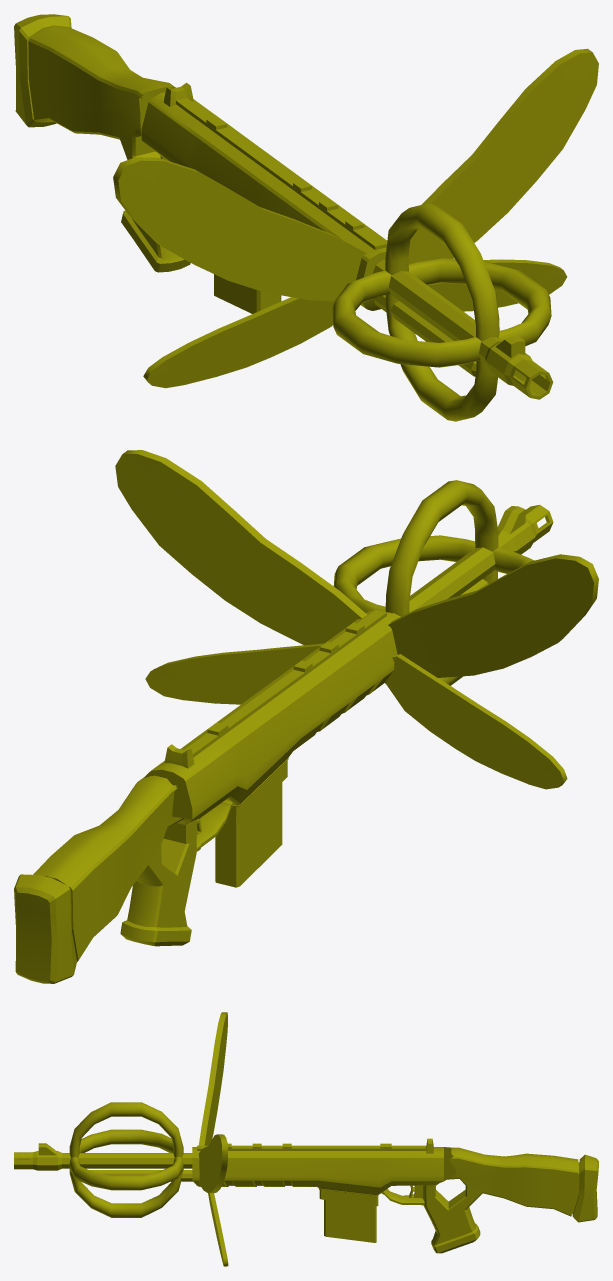
Rendered from Ranged-Gun-Ft-Extras.fbx.
3 renders of one model, top to bottom at view 1: azimuth 30°, elevation 25°; view 2: azimuth 150°, elevation 25°; view 3: azimuth 270°, elevation 25°, orthographic. The views are drawn at different scales.
Parts seen in each view (by area): view 1: wings, gun_base, polySurface446, polySurface433; view 2: gun_base, wings, polySurface433, polySurface446; view 3: gun_base, polySurface433, wings, polySurface446.
Part boxes in pixels (x1=…): wings: x1=113, y1=48, x2=598, y2=388; gun_base: x1=14, y1=14, x2=553, y2=399; polySurface446: x1=332, y1=258, x2=551, y2=367; polySurface433: x1=385, y1=203, x2=499, y2=421; gun_base: x1=14, y1=504, x2=553, y2=983; wings: x1=115, y1=450, x2=598, y2=789; polySurface433: x1=385, y1=480, x2=498, y2=685; polySurface446: x1=333, y1=535, x2=533, y2=612; gun_base: x1=14, y1=1138, x2=598, y2=1253; polySurface433: x1=69, y1=1102, x2=183, y2=1217; wings: x1=198, y1=1012, x2=228, y2=1266; polySurface446: x1=69, y1=1129, x2=183, y2=1190.
Size of the model in its own units: 8.96 by 5.38 by 16.4.
